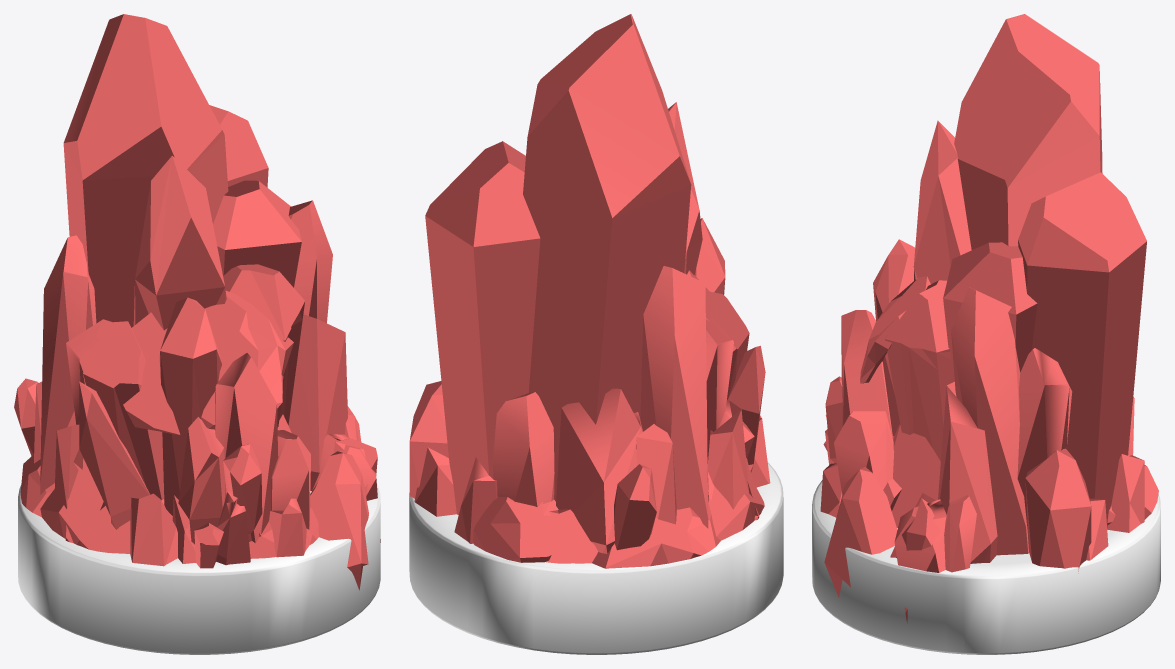
Rendered from red_crystal.glb.
3 renders of one model, left to right at view 1: azimuth 30°, elevation 25°; view 2: azimuth 150°, elevation 25°; view 3: azimuth 270°, elevation 25°, orthographic. The views are drawn at different scales.
Visible parts, largest first — view 1: Object_2, Object_3; view 2: Object_2, Object_3; view 3: Object_2, Object_3.
Boxes of the visible parts, x1,y1,x2,y2 form: Object_2: [14, 14, 380, 590]; Object_3: [18, 484, 380, 654]; Object_2: [409, 14, 770, 568]; Object_3: [409, 462, 783, 654]; Object_2: [820, 14, 1158, 623]; Object_3: [812, 480, 1160, 654].
Size of the model in its own units: 0.3778 by 0.6484 by 0.3778.
